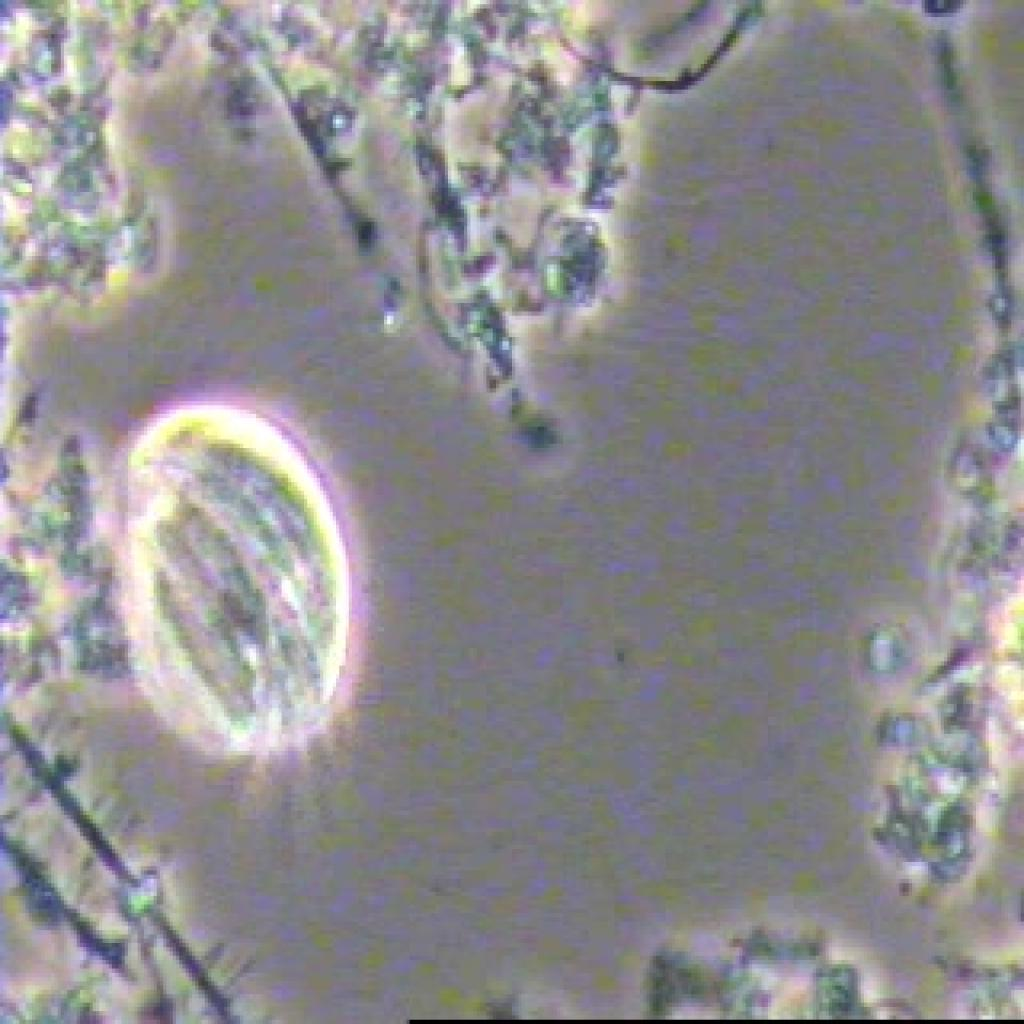Aspidisca: (96, 380, 426, 823)
